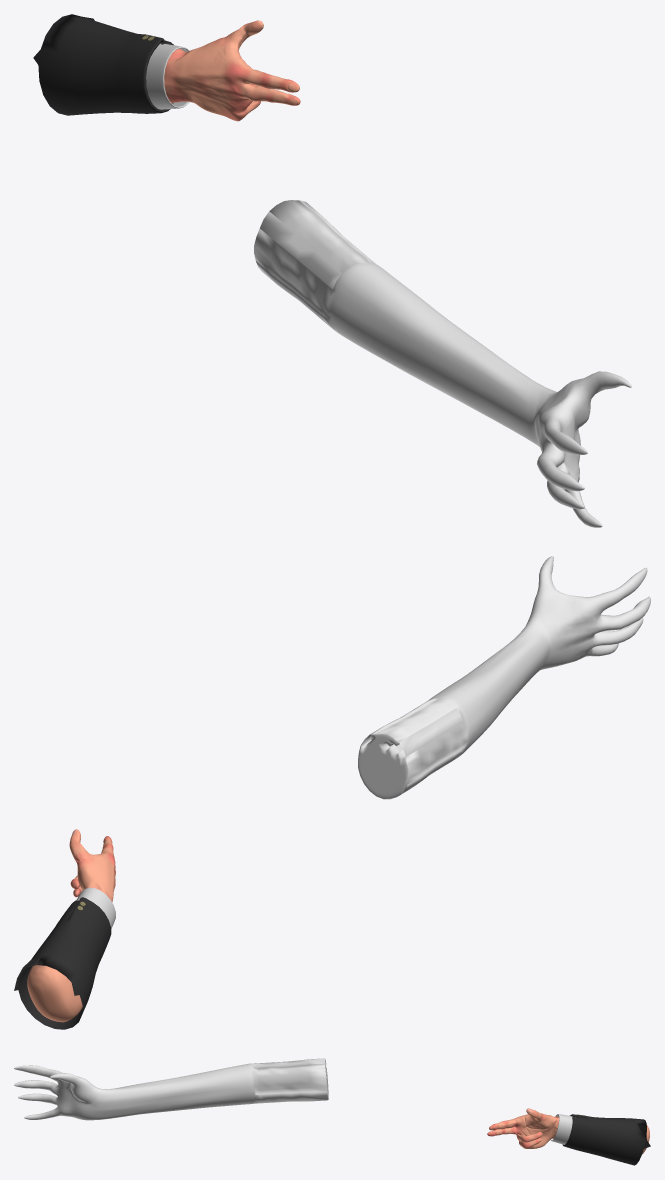
Rendered from JOHNPEWPEWMESH.fbx.
3 renders of one model, top to bottom at view 1: azimuth 30°, elevation 25°; view 2: azimuth 150°, elevation 25°; view 3: azimuth 270°, elevation 25°, orthographic. The views are drawn at different scales.
Parts seen in each view (by area): view 1: Demon_hand, Hand; view 2: Demon_hand, Hand; view 3: Demon_hand, Hand.
Part boxes in pixels (bbox=[...]): Demon_hand: bbox=[254, 200, 631, 527]; Hand: bbox=[33, 14, 300, 121]; Demon_hand: bbox=[358, 556, 650, 799]; Hand: bbox=[14, 829, 115, 1029]; Demon_hand: bbox=[14, 1058, 328, 1120]; Hand: bbox=[487, 1108, 650, 1165].
Bounding box in the file's own units: 297 × 222 × 1554.
